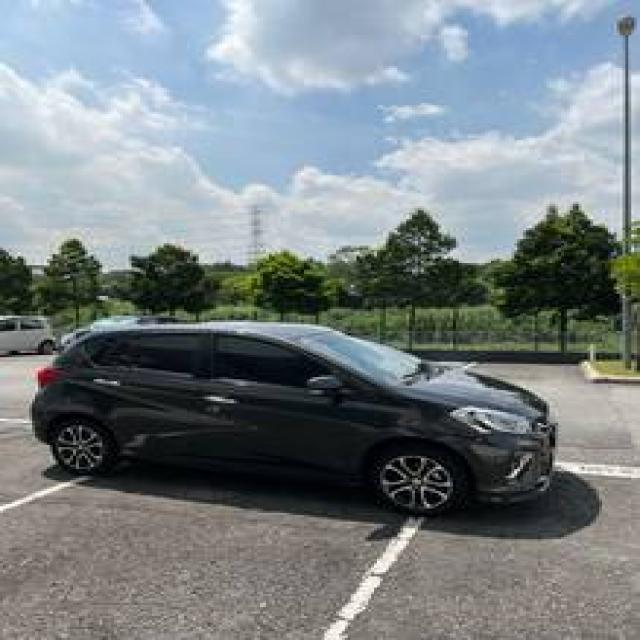PeroduaMyvi: (26, 316, 558, 518)
